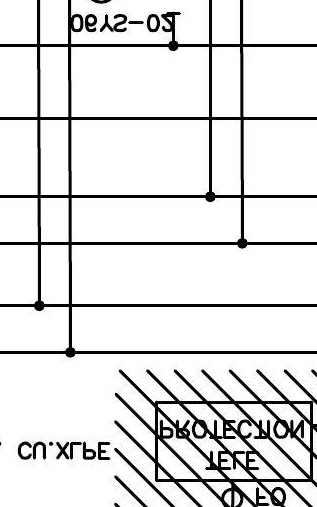tele_protection: (152, 398, 316, 485)
